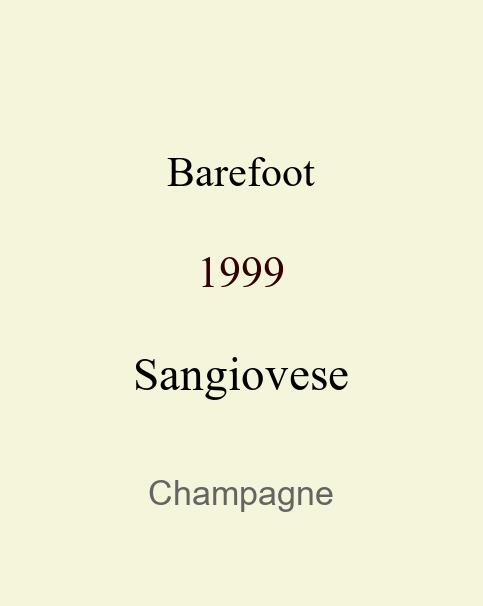brand: (167, 148, 315, 177)
region: (148, 474, 334, 506)
variety: (133, 348, 349, 391)
vintage: (197, 247, 285, 277)
